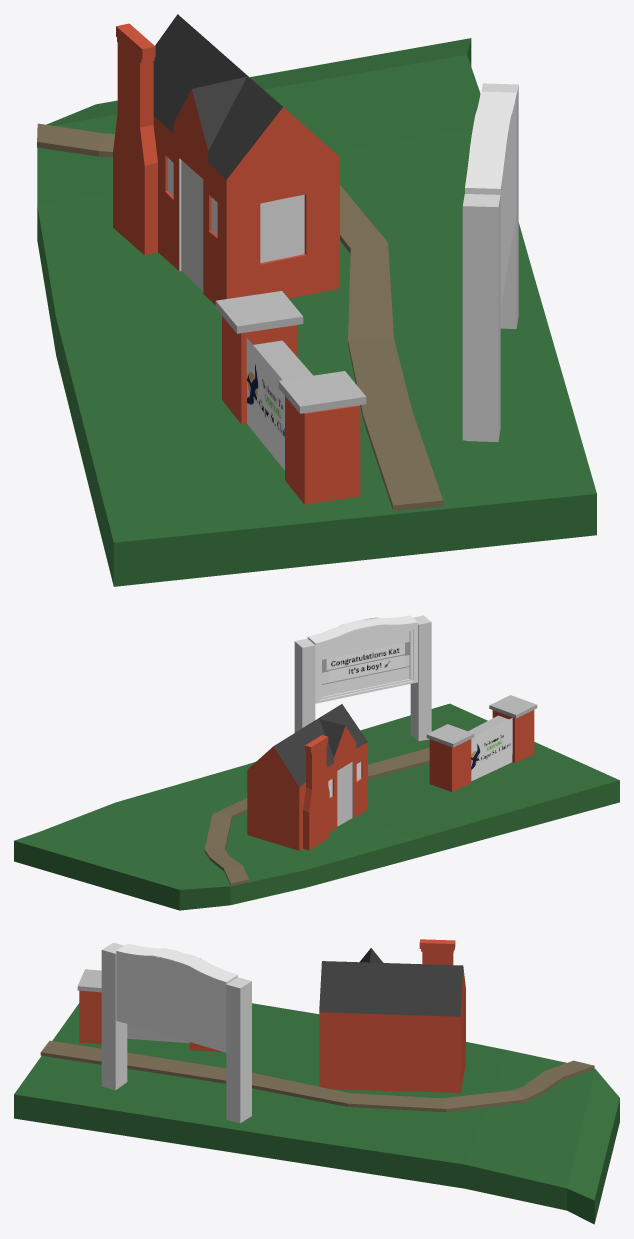
The model's file is intguardhouse.glb.
3 views of the same model, one above another, from view 1: azimuth 30°, elevation 25°; view 2: azimuth 150°, elevation 25°; view 3: azimuth 270°, elevation 25° (orthographic). The views are drawn at different scales.
Visible parts, largest first — view 1: Guard House, s, Guard House.001; view 2: Guard House, s, Congratulations Kat You Did It! (1).001, Congratulations Kat You Did It! (1); view 3: Guard House, Guard House.001.
Part boxes in pixels (<box>): Guard House: <box>37,14,596,586</box>; s: <box>246,338,284,470</box>; Guard House.001: <box>253,340,312,379</box>; Guard House: <box>14,615,619,910</box>; s: <box>471,718,512,781</box>; Congratulations Kat You Did It! (1).001: <box>326,642,404,669</box>; Congratulations Kat You Did It! (1): <box>328,655,404,682</box>; Guard House: <box>14,939,619,1224</box>; Guard House.001: <box>127,1024,189,1043</box>.
Bounding box in the file's own units: 0.0735 × 0.0267 × 0.0845.
Materials: 10 (2 with a texture image).
